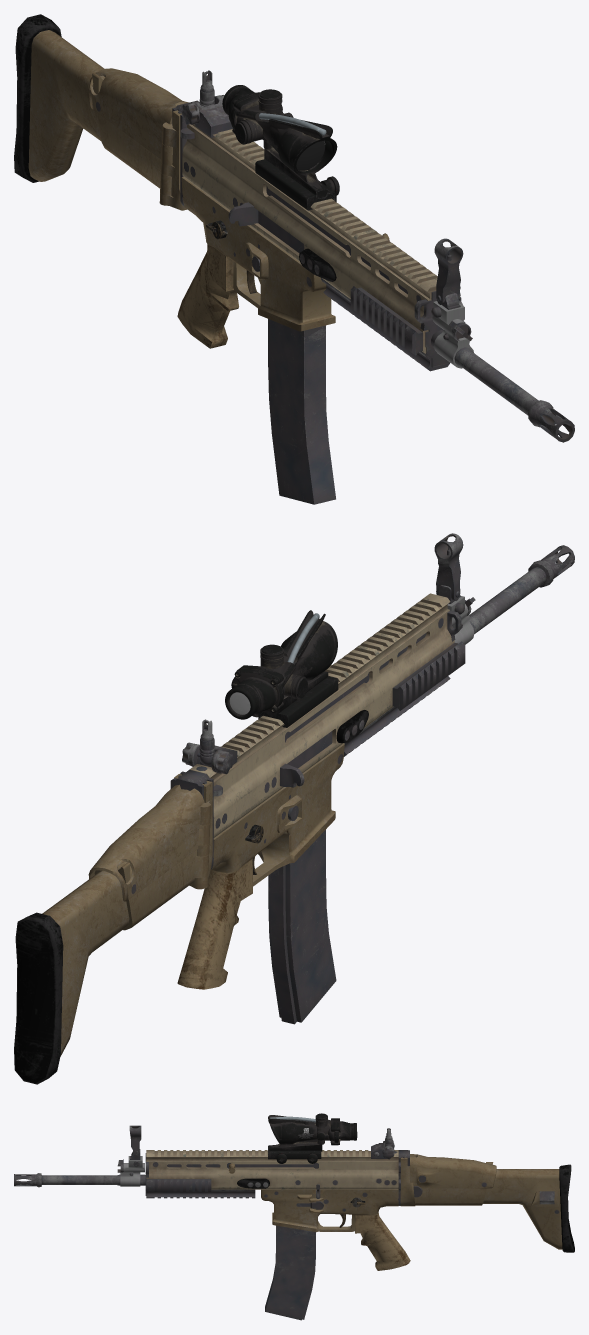
Rendered from Scar.obj.
The picture shows the model from 3 angles, top to bottom: view 1: azimuth 30°, elevation 25°; view 2: azimuth 150°, elevation 25°; view 3: azimuth 270°, elevation 25°; orthographic projection. The views are drawn at different scales.
Parts seen in each view (by area): view 1: obj1; view 2: obj1; view 3: obj1.
Part boxes in pixels (left/top/right/bottom): obj1: left=14, top=14, right=574, bottom=504; obj1: left=14, top=533, right=574, bottom=1084; obj1: left=14, top=1113, right=574, bottom=1320.
Bounding box in the file's own units: 6.09 × 33.73 × 84.79.
Materials: 3 (3 with a texture image).
